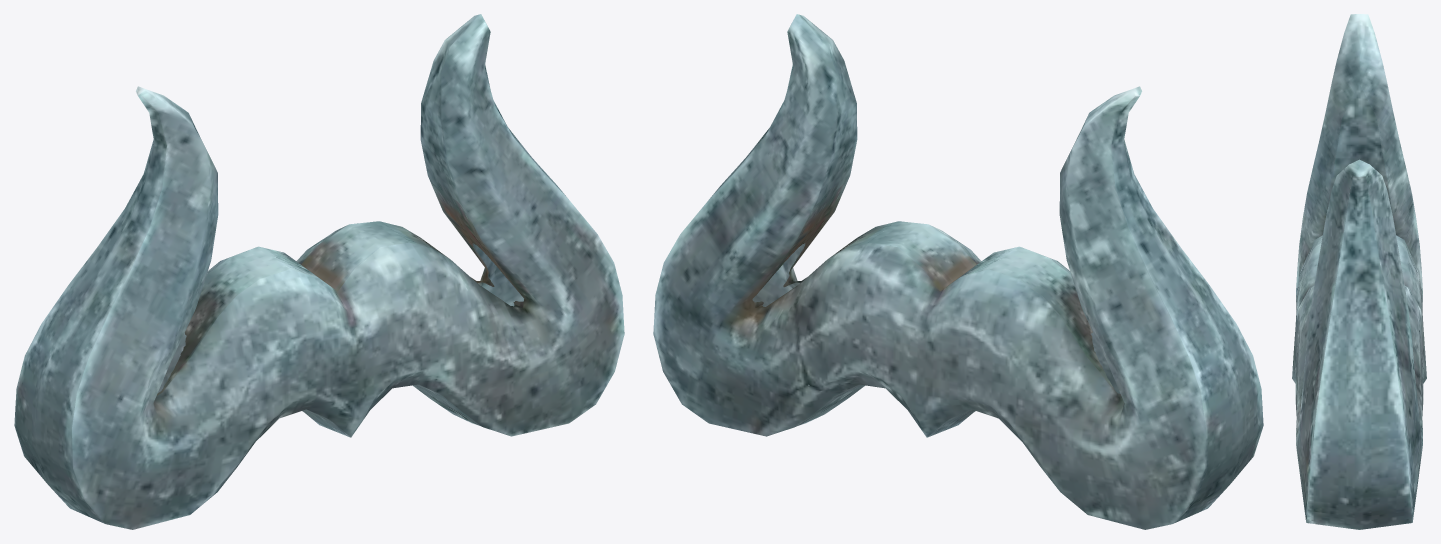
The picture shows the model from 3 angles, left to right: view 1: azimuth 30°, elevation 25°; view 2: azimuth 150°, elevation 25°; view 3: azimuth 270°, elevation 25°; orthographic projection. The views are drawn at different scales.
Parts seen in each view (by area): view 1: SM_God_Statue_Logo_01v4_LOD0; view 2: SM_God_Statue_Logo_01v4_LOD0; view 3: SM_God_Statue_Logo_01v4_LOD0.
Part boxes in pixels (bbox=[...]): SM_God_Statue_Logo_01v4_LOD0: bbox=[14, 14, 624, 529]; SM_God_Statue_Logo_01v4_LOD0: bbox=[653, 14, 1263, 529]; SM_God_Statue_Logo_01v4_LOD0: bbox=[1292, 14, 1426, 529].
Bounding box in the file's own units: 1.18 × 0.8305 × 0.289.
Materials: 1 (1 with a texture image).
